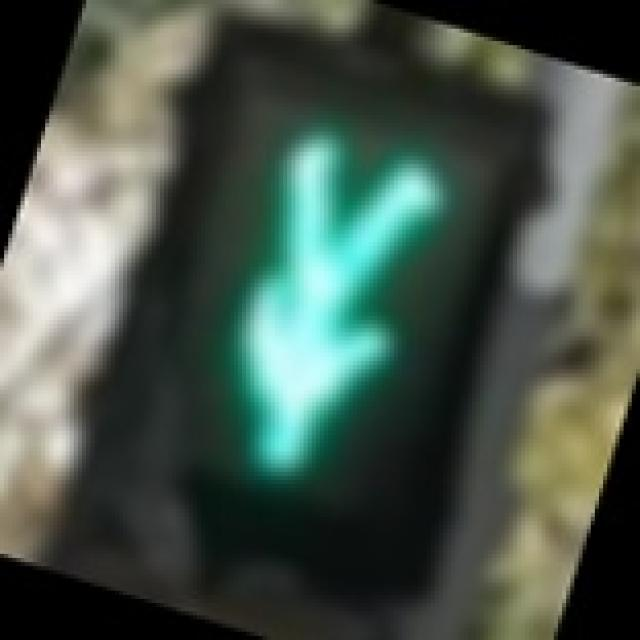green_light: (111, 66, 517, 558)
